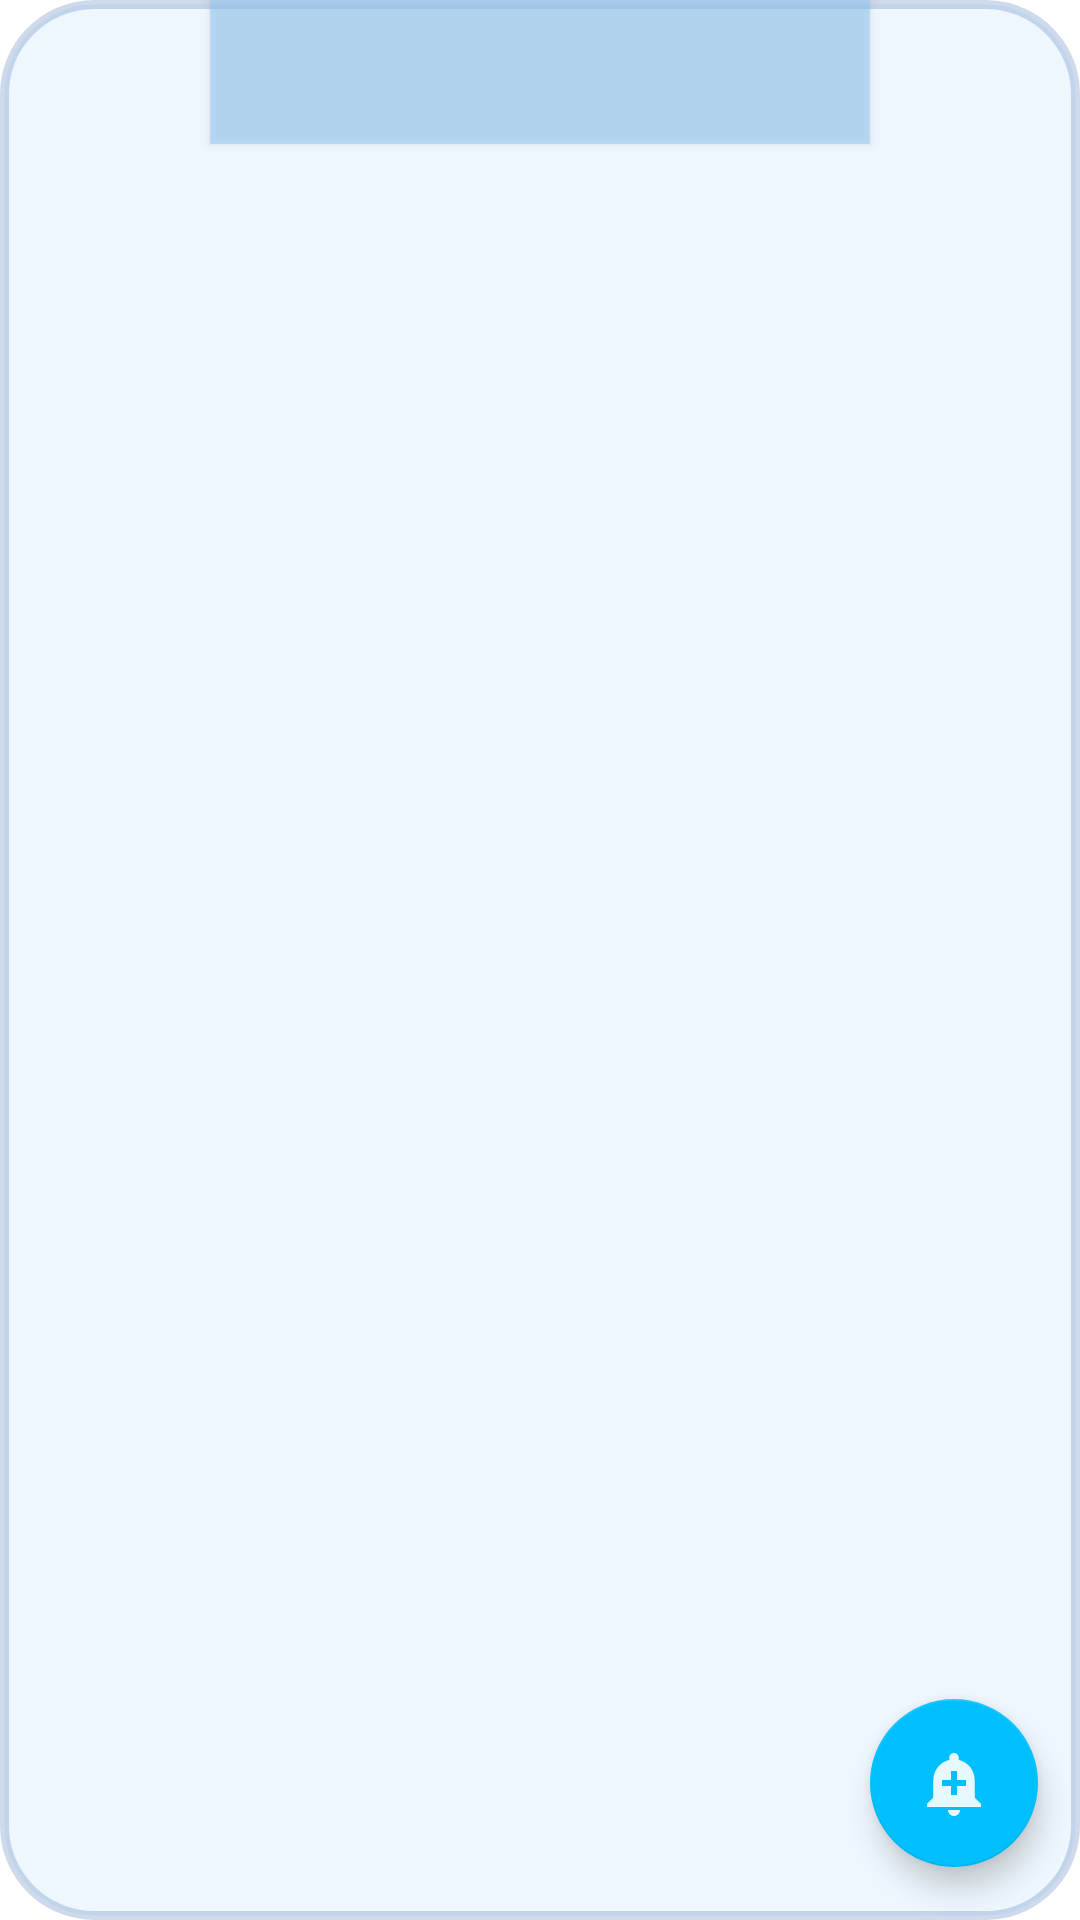

Icons on this 1080px x 1920px Android screen, each with its box as (x1, y1, x2, y2):
add alert: (870, 1699, 1038, 1867)
